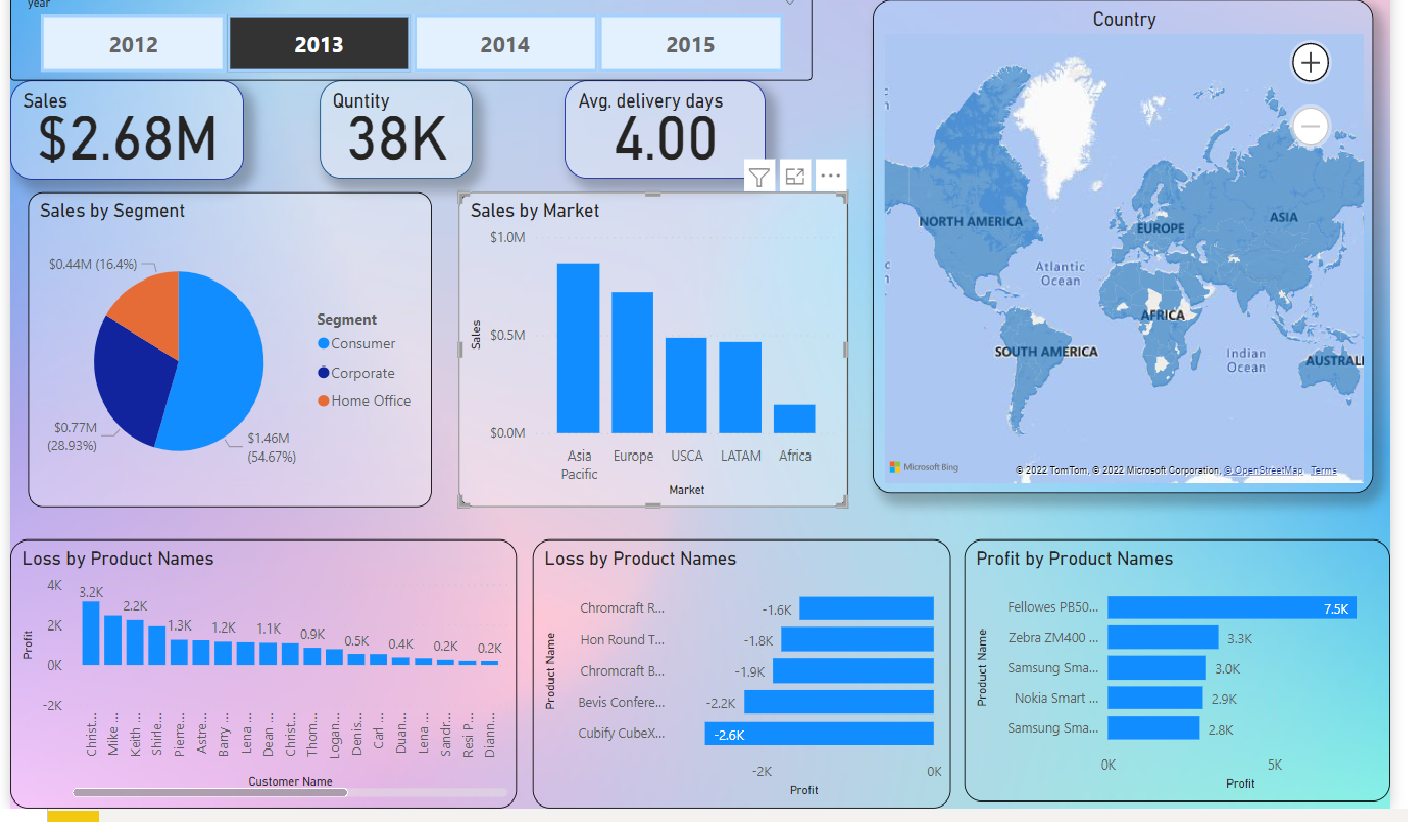

The page's visual inventory and layout, read from the dashboard file:
{"tool":"powerbi","page":{"name":"Page 1","canvas":[1280,720],"ordinal":0},"visuals":[{"type":"card","title":"Sales","fields":{"Values":["Orders.Sales"]},"box":[0,82,215.9,86.8],"z":0},{"type":"card","title":"Quntity","fields":{"Values":["Orders.Quantity"]},"box":[287,82.4,141.5,86.5],"z":1},{"type":"card","title":"Avg. delivery days","fields":{"Values":["Orders.Delivery day"]},"box":[513.6,82.4,185.4,86.5],"z":2},{"type":"slicer","fields":{"Values":["Orders.year"]},"box":[0,0,743,82.4],"z":3},{"type":"barChart","title":"Profit by Product Names","fields":{"Y":["Orders.Profit"],"Category":["Orders.Product Name"]},"box":[884.5,484.8,395.5,229.4],"z":4},{"type":"filledMap","fields":{"Category":["Orders.Country","Orders.Region"]},"box":[804.8,12.4,464.2,434],"z":7},{"type":"barChart","title":"Loss by Product Names","fields":{"Y":["Orders.Profit"],"Category":["Orders.Product Name"]},"box":[484.8,484.8,387.3,234.8],"z":8},{"type":"pieChart","fields":{"Category":["Orders.Segment"],"Y":["Orders.Sales"]},"box":[16.5,179.9,373.6,276.1],"z":9},{"type":"columnChart","fields":{"Category":["Orders.Market"],"Y":["Orders.Sales"]},"box":[414.8,179.9,361.2,276.1],"z":10},{"type":"columnChart","title":"Loss by Product Names","fields":{"Category":["Orders.Customer Name"],"Y":["Orders.Profit"]},"box":[0,484.8,469.7,234.8],"z":11}]}

Visuals, with their boxes in screenshot pixels (x1, y1, x2, y2):
"Sales" card: [x1=4, y1=104, x2=238, y2=198]
"Quntity" card: [x1=315, y1=104, x2=469, y2=198]
"Avg. delivery days" card: [x1=561, y1=104, x2=762, y2=198]
slicer - Orders.year: [x1=4, y1=15, x2=810, y2=104]
"Profit by Product Names" barChart: [x1=963, y1=541, x2=1392, y2=789]
filledMap - Orders.Country x Orders.Region: [x1=877, y1=28, x2=1380, y2=499]
"Loss by Product Names" barChart: [x1=530, y1=541, x2=950, y2=795]
pieChart - Orders.Segment x Orders.Sales: [x1=22, y1=210, x2=427, y2=509]
columnChart - Orders.Market x Orders.Sales: [x1=454, y1=210, x2=845, y2=509]
"Loss by Product Names" columnChart: [x1=4, y1=541, x2=513, y2=795]
